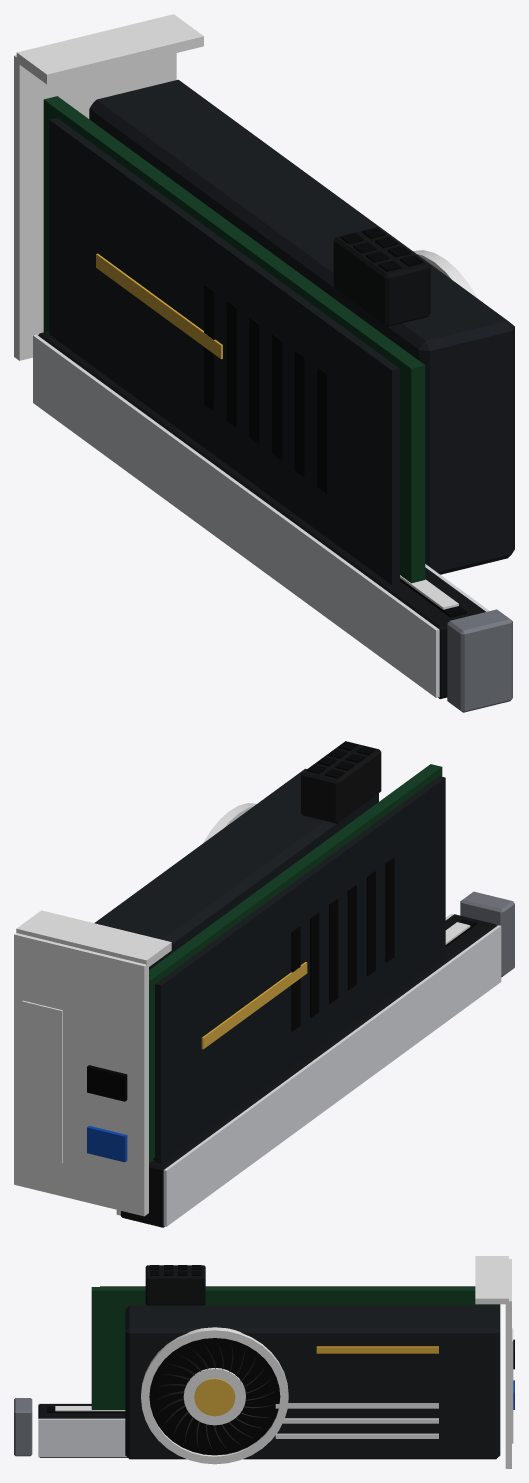
Rendered from hwm_gpu_quadro_p400.glb.
The picture shows the model from 3 angles, top to bottom: view 1: azimuth 30°, elevation 25°; view 2: azimuth 150°, elevation 25°; view 3: azimuth 270°, elevation 25°; orthographic projection. The views are drawn at different scales.
Visible parts, largest first — view 1: Card_0, Slot_0; view 2: Card_0, Slot_0; view 3: Card_0, Slot_0, Rotor_X_0.
Boxes of the visible parts, box(x1,y1,x2,y2) form: Card_0: box(14, 14, 514, 609); Slot_0: box(33, 331, 512, 712); Card_0: box(14, 741, 470, 1216); Slot_0: box(116, 891, 514, 1227); Card_0: box(55, 1256, 514, 1468); Slot_0: box(14, 1398, 127, 1457); Rotor_X_0: box(155, 1342, 274, 1449).
Bounding box in the file's own units: 0.0389 × 0.0756 × 0.179.
